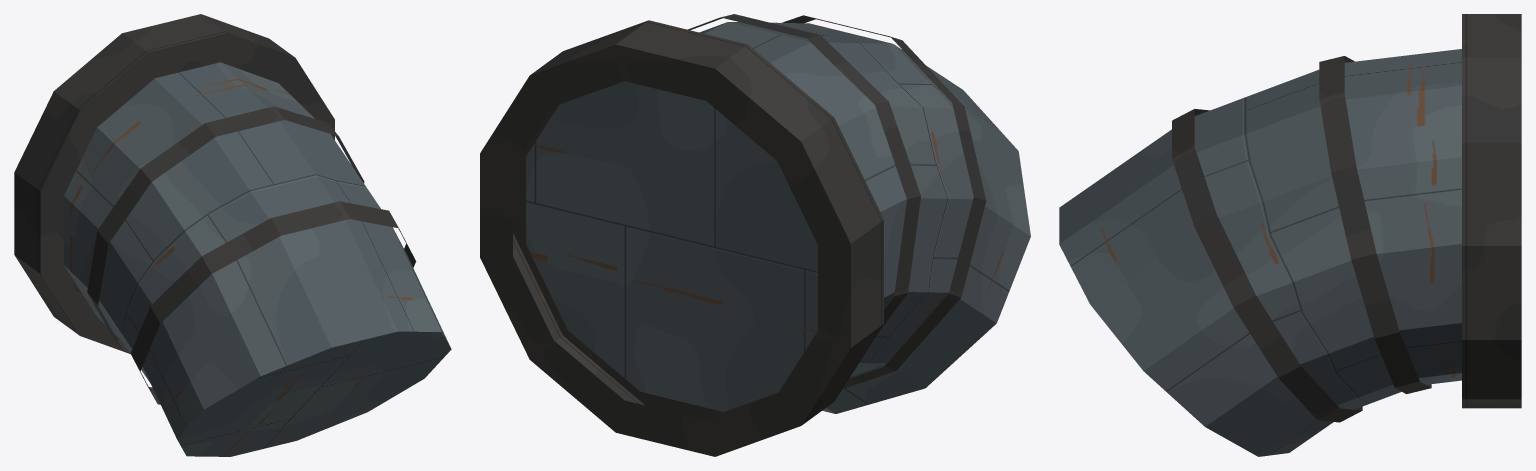
The model's file is pipe_bend_45_v1.fbx.
3 renders of one model, left to right at view 1: azimuth 30°, elevation 25°; view 2: azimuth 150°, elevation 25°; view 3: azimuth 270°, elevation 25°, orthographic. The views are drawn at different scales.
Parts seen in each view (by area): view 1: pipe_bend_45_v1_lod0; view 2: pipe_bend_45_v1_lod0; view 3: pipe_bend_45_v1_lod0.
Boxes of the visible parts, bbox=[...] form: pipe_bend_45_v1_lod0: bbox=[14, 14, 451, 456]; pipe_bend_45_v1_lod0: bbox=[480, 14, 1030, 456]; pipe_bend_45_v1_lod0: bbox=[1059, 14, 1521, 456].
Size of what is drawn, in the model's own units: 207 by 235 by 247.
